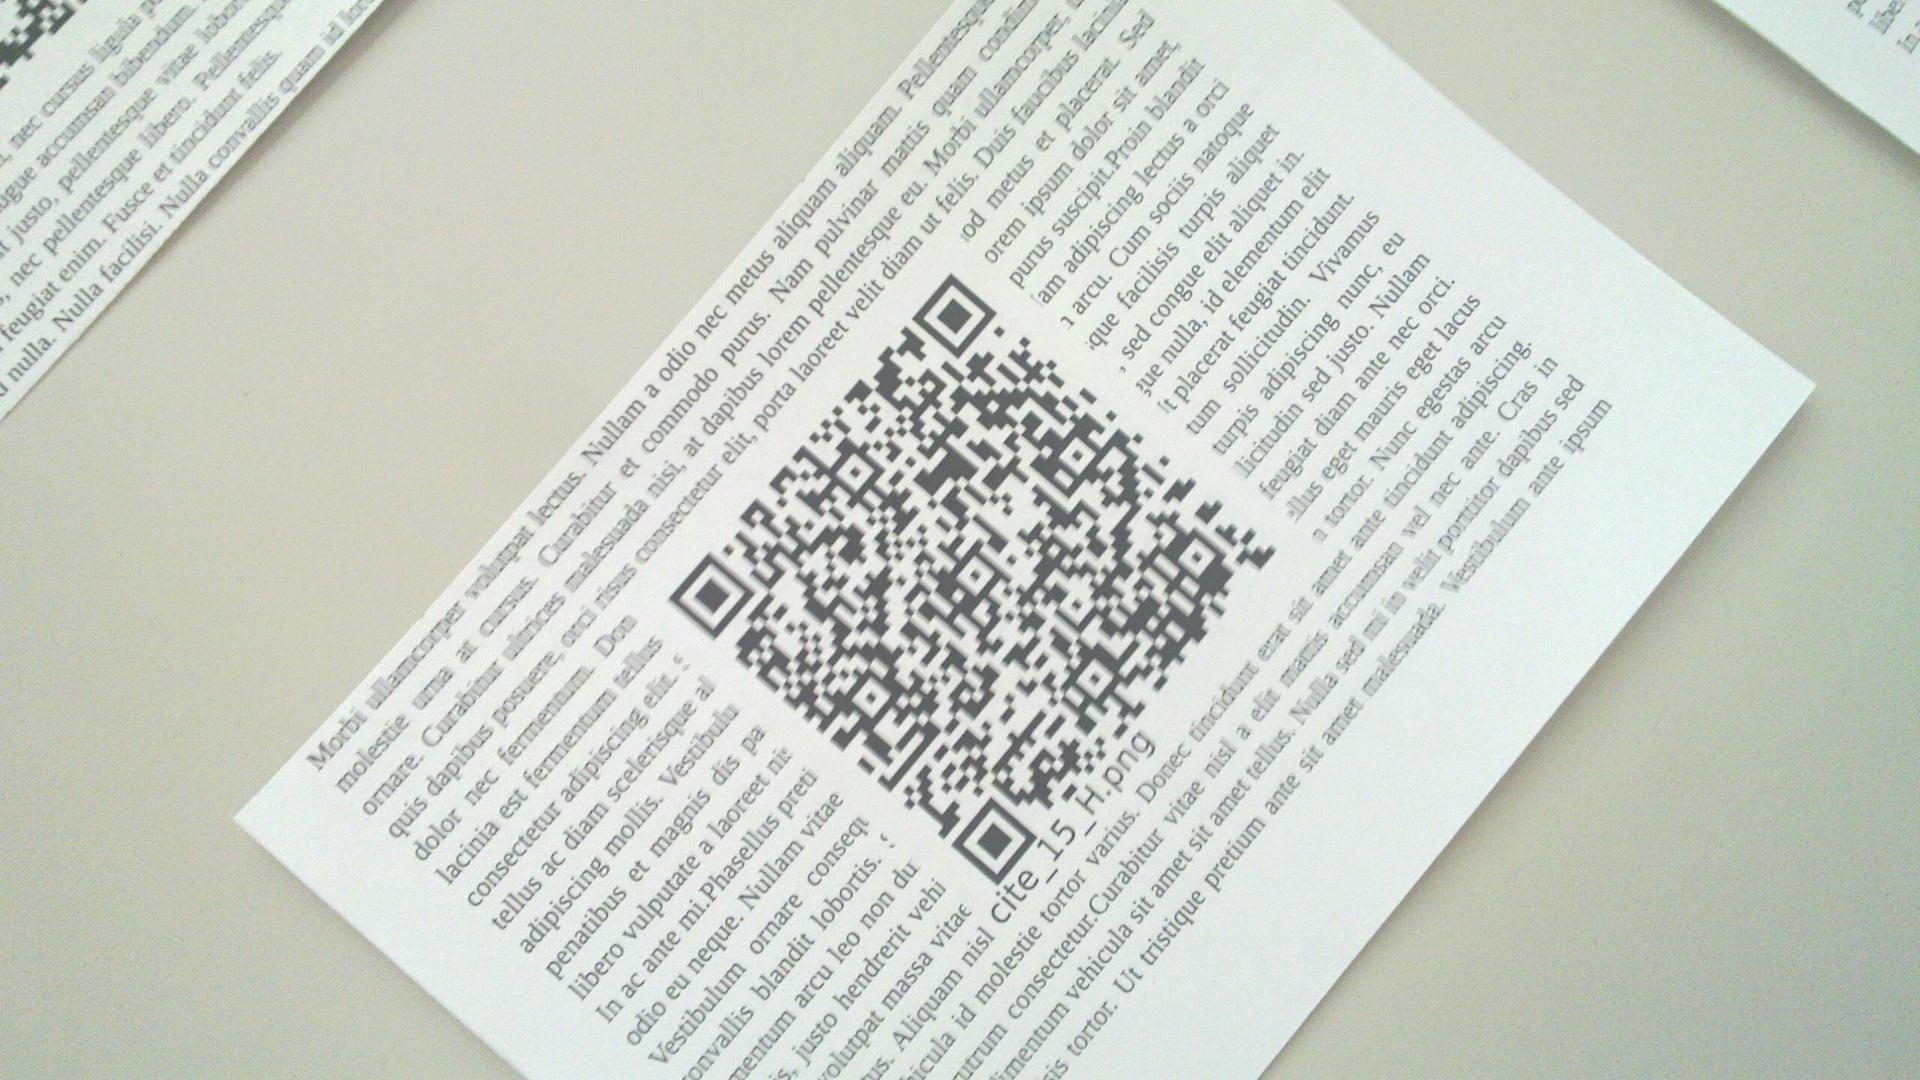Finder pattern: (949, 799, 1036, 885), (913, 276, 997, 352), (671, 559, 752, 638)
